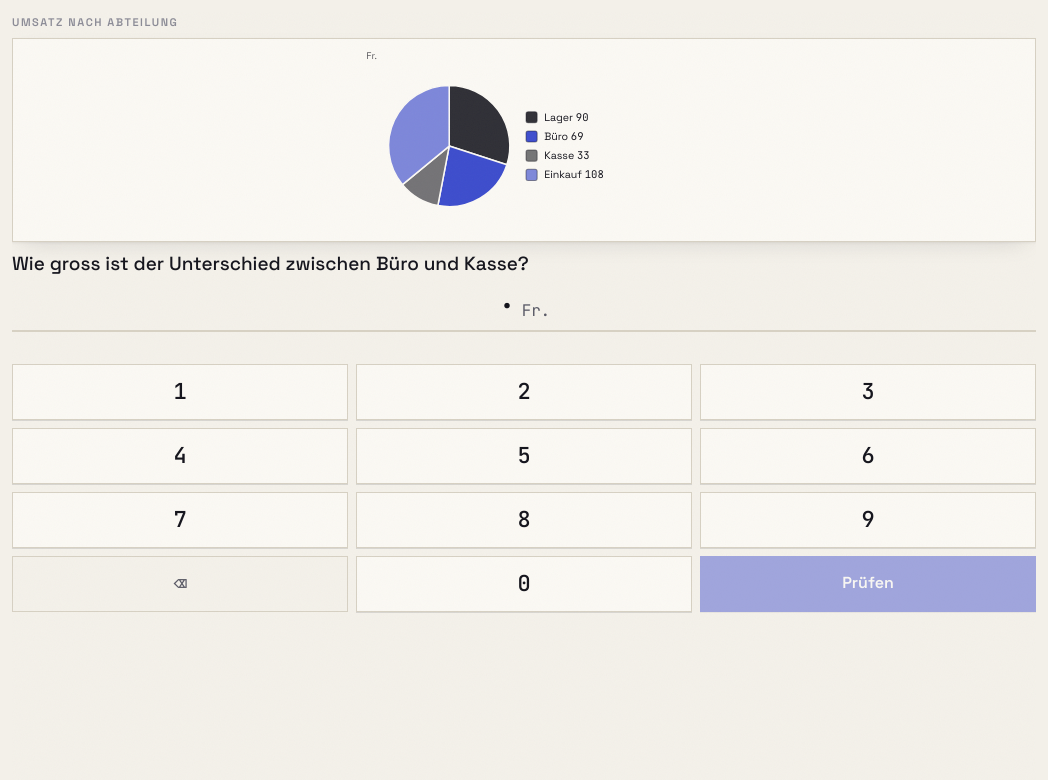
Test: datenlesen play surface › answers a numeric item through the number pad and shows the unit
This screenshot has width=1048, height=780.
Expected: the element showing "1 2 3 4 5 6 7 8 9 ⌫ 0 Prüfen" is shown, [12,364,1036,624]
Expected: the text with class "run__suffix" reads "Fr.", [522,300,550,321]
Click the button "3" at (868, 392), box [700,364,1036,420]
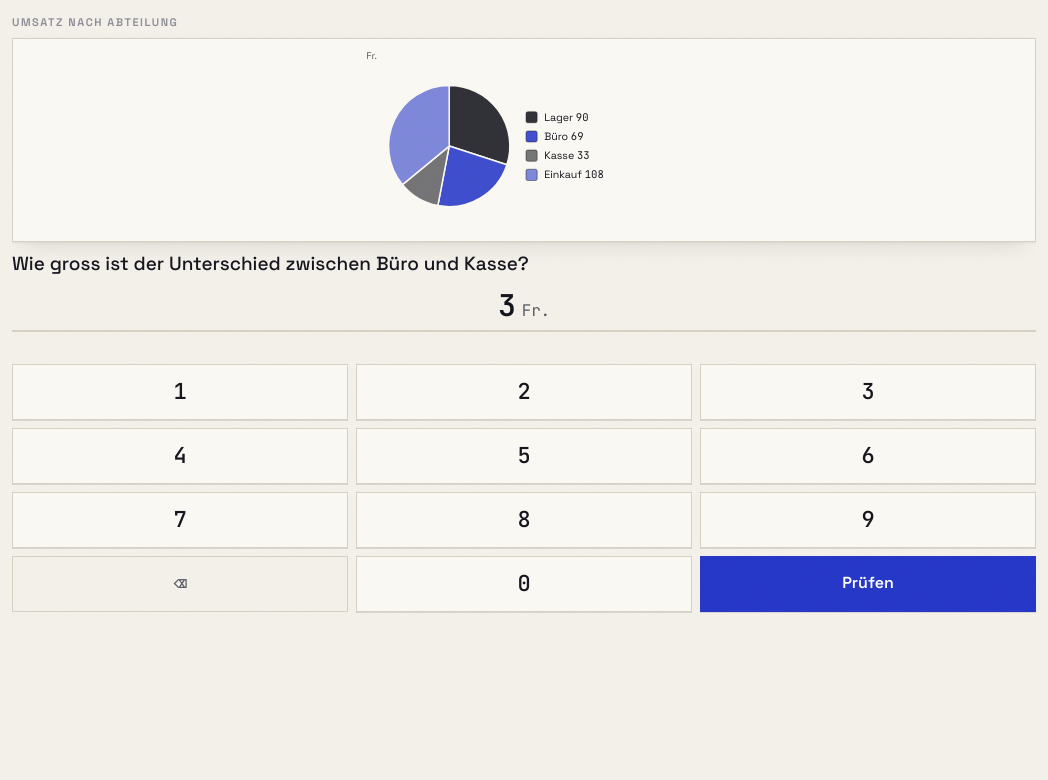
Click the button "6" at (868, 456), box [700,428,1036,484]
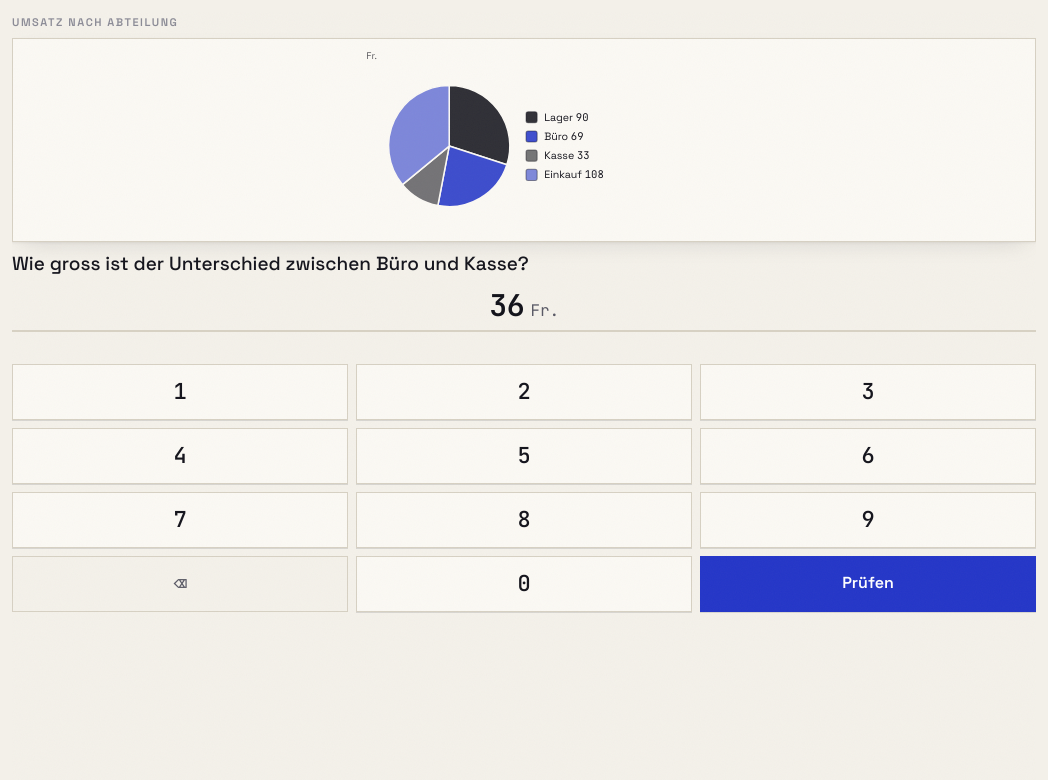
Result: the text with class "run__value" reads "36" at [489,285,524,325]
Click the button "Prüfen" at (868, 584), box [700,556,1036,612]
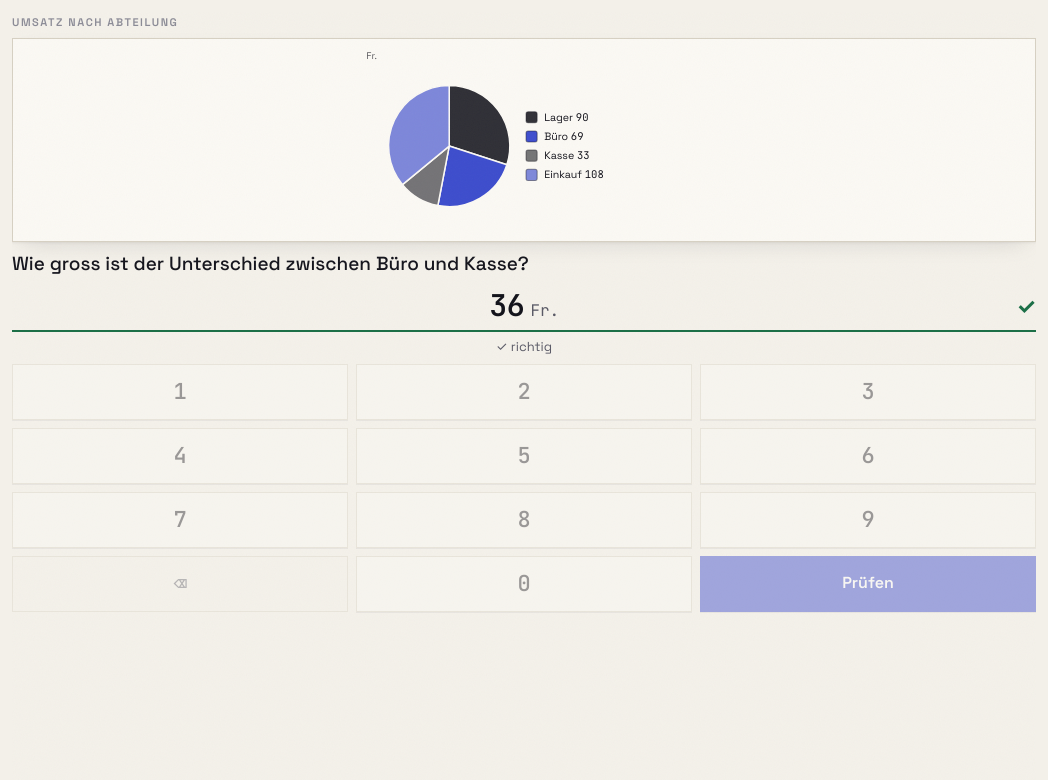
Result: the message "✓ richtig" is shown at [496,338,552,354]
